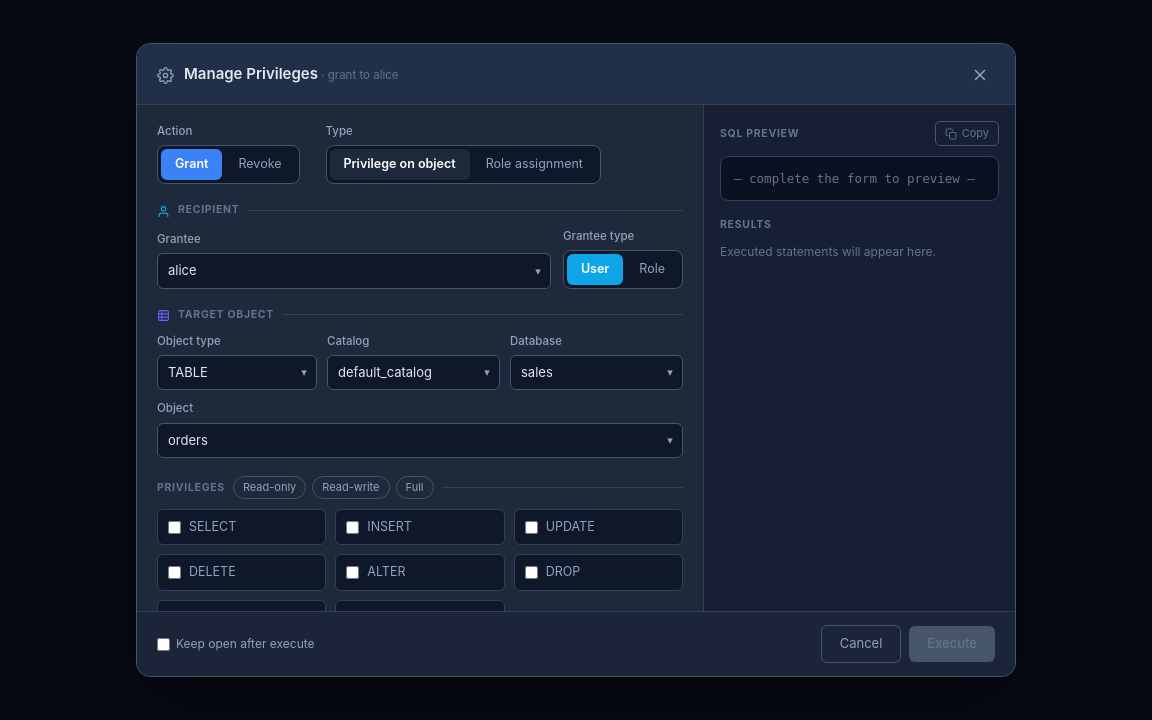
Test: ManagePrivilegesModal › presets select intent-level privilege sets and Full shows the danger badge
Step 1. Click the button with test id "mp-preset-Read-write" → (351, 487), box top-left (312, 476), bottom-right (390, 499)
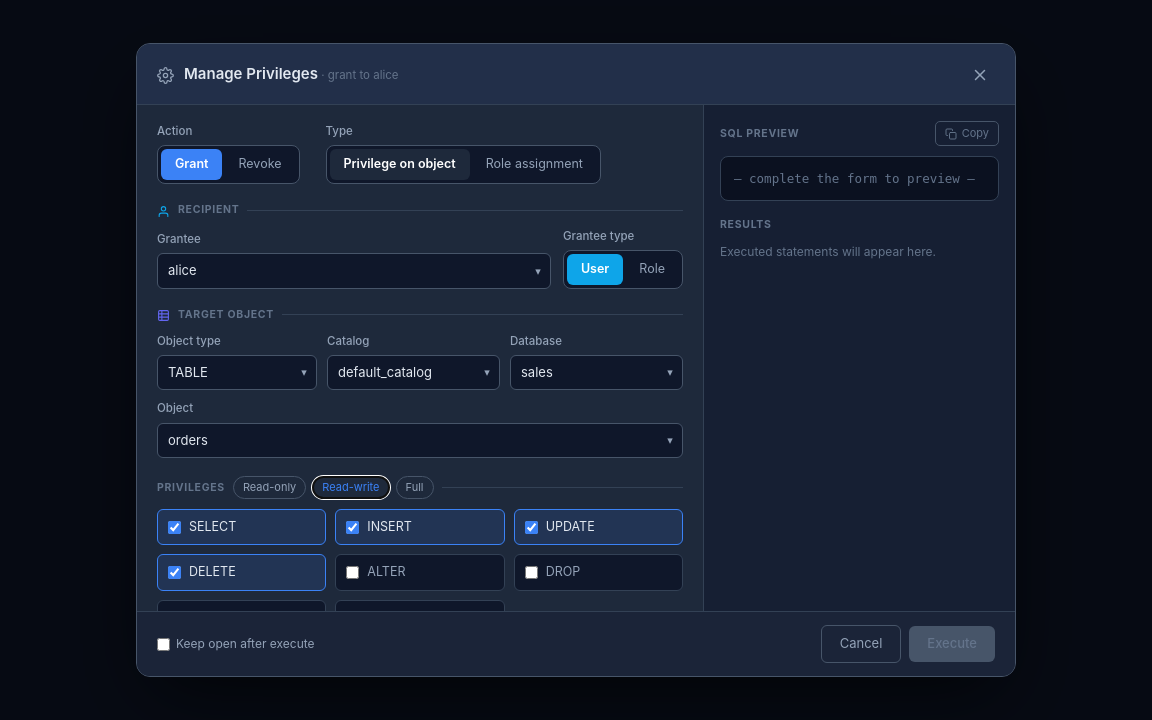
Expected: the checkbox with test id "mp-priv-DROP" is not checked, top-left (525, 566), bottom-right (538, 579)
Expected: the checkbox with test id "mp-priv-SELECT" is checked, top-left (168, 521), bottom-right (181, 534)
Expected: the checkbox with test id "mp-priv-INSERT" is checked, top-left (346, 521), bottom-right (359, 534)
Step 2. Click the button with test id "mp-preset-Full" → (414, 487), box top-left (396, 476), bottom-right (434, 499)
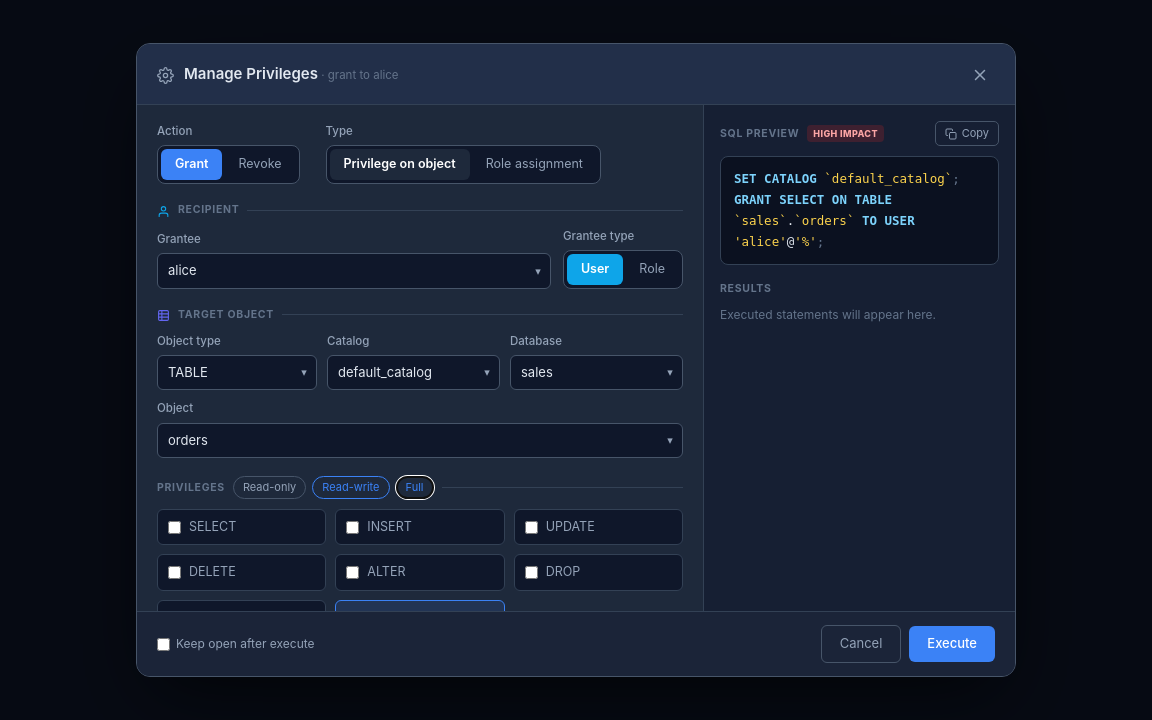
Expected: the text "HIGH IMPACT" is shown, top-left (807, 125), bottom-right (884, 142)
